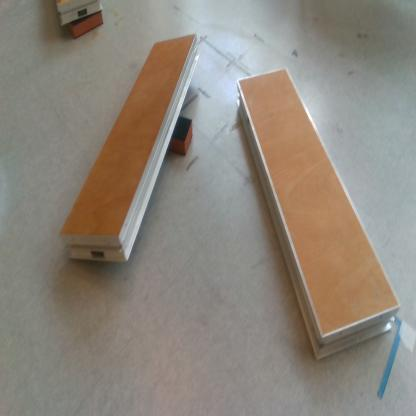Stairs: (236, 69, 402, 360), (59, 34, 201, 268), (58, 1, 103, 29)
